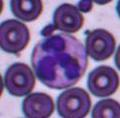N: (30, 34, 86, 89)
